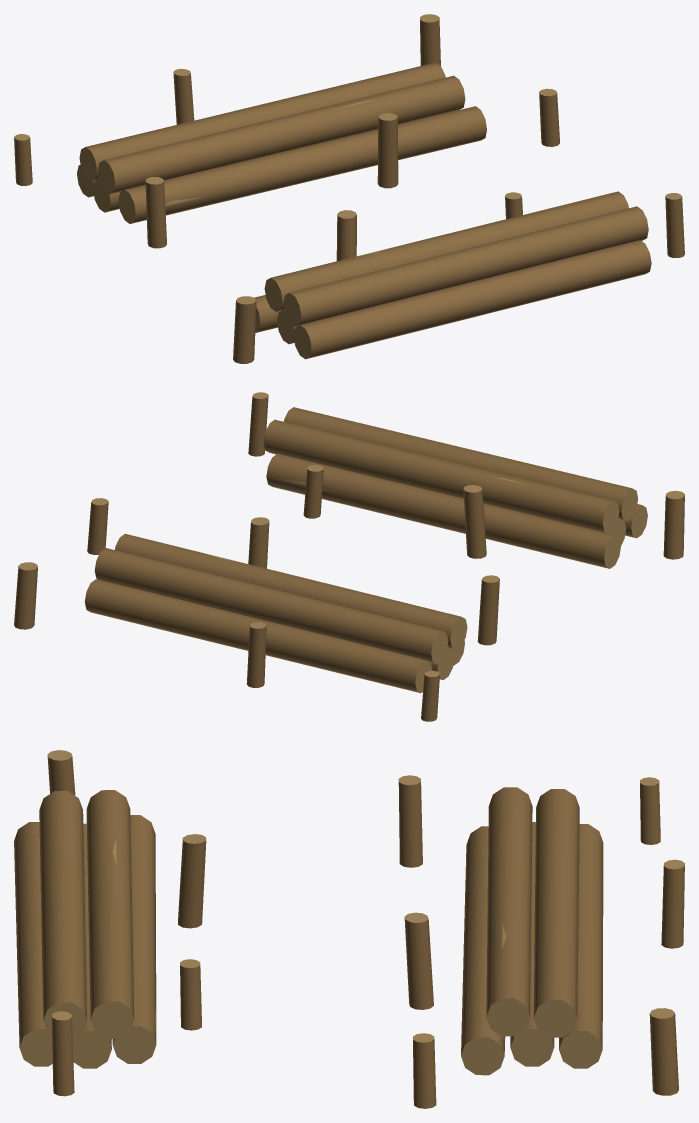
File: Resource_PineTree_Group_Cut.glb
3 views of the same model, one above another, from view 1: azimuth 30°, elevation 25°; view 2: azimuth 150°, elevation 25°; view 3: azimuth 270°, elevation 25° (orthographic). The views are drawn at different scales.
Parts seen in each view (by area): view 1: Resource_PineTree_Group_Cut; view 2: Resource_PineTree_Group_Cut; view 3: Resource_PineTree_Group_Cut.
Part boxes in pixels (x1,y1,x2,y2): Resource_PineTree_Group_Cut: (14, 14, 684, 363); Resource_PineTree_Group_Cut: (14, 392, 684, 721); Resource_PineTree_Group_Cut: (14, 750, 684, 1108).
Bounding box in the file's own units: 1.49 × 0.2116 × 1.48.
